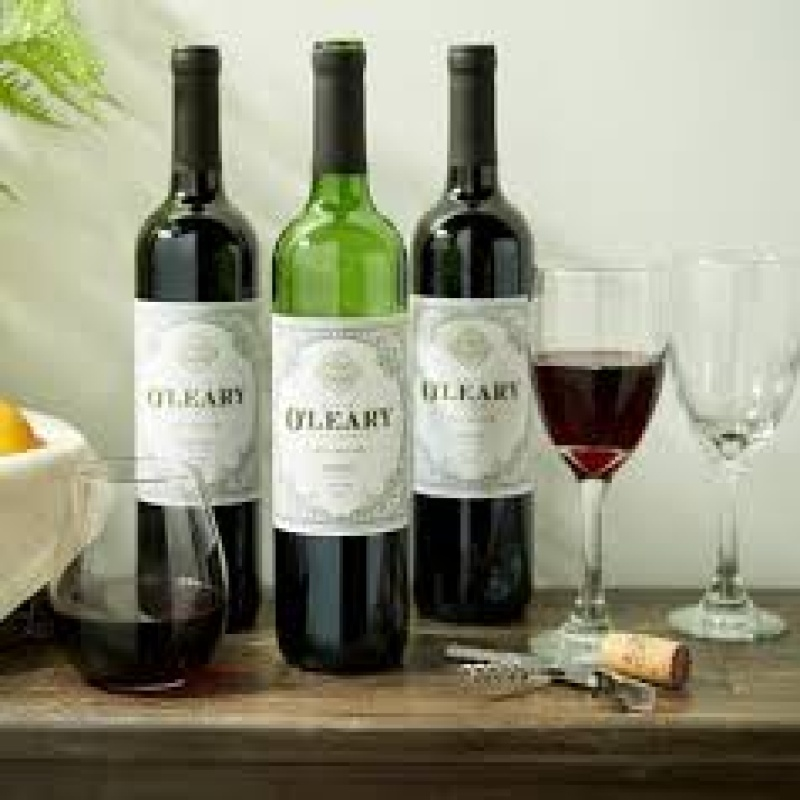wine: (127, 43, 269, 644), (280, 42, 416, 666), (419, 47, 537, 616)
